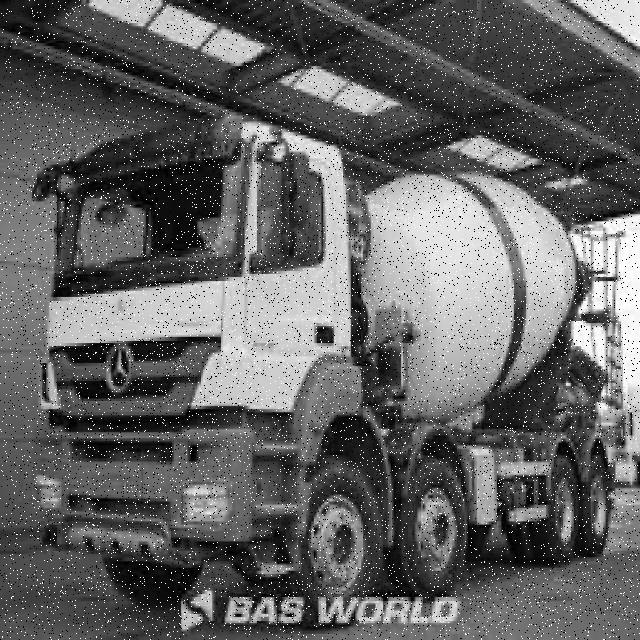Concrete Mixer: (32, 116, 640, 626)
